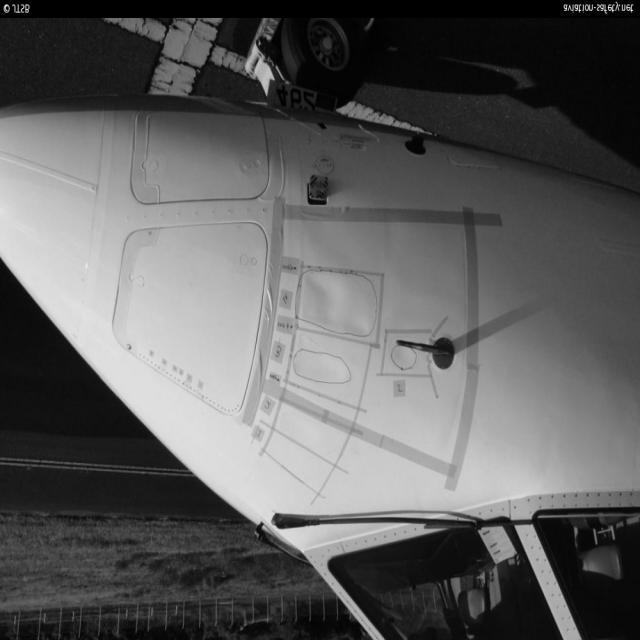dent: (300, 276, 374, 333), (296, 352, 370, 386), (393, 343, 413, 369)
